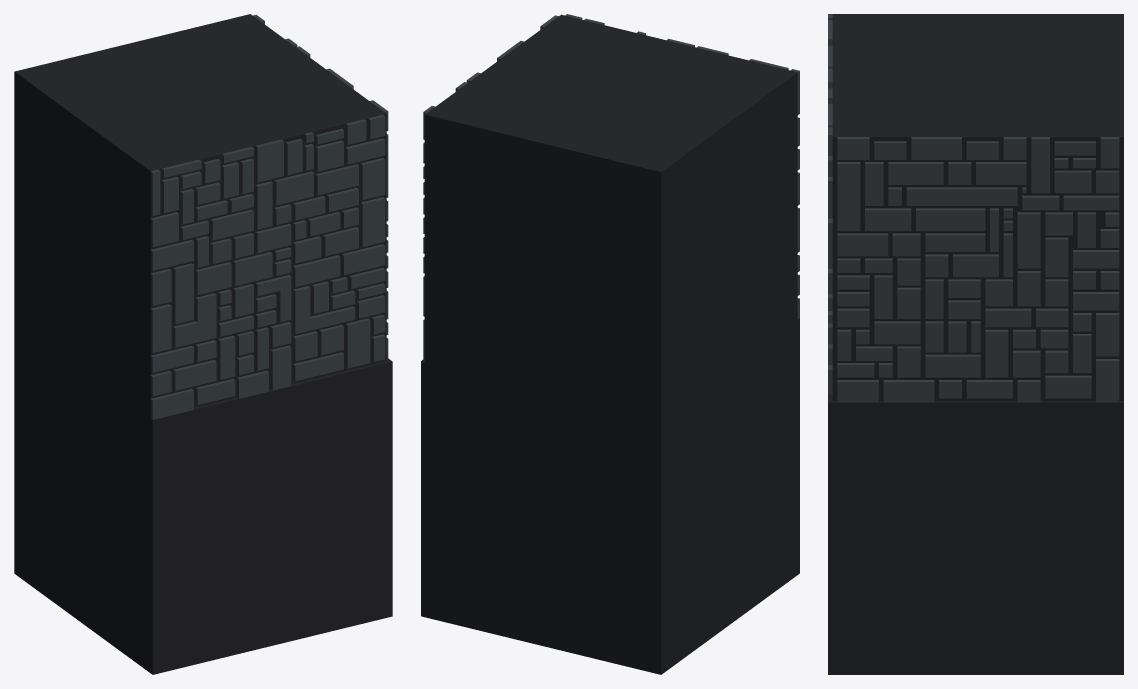
The model's file is corner1.fbx.
3 renders of one model, left to right at view 1: azimuth 30°, elevation 25°; view 2: azimuth 150°, elevation 25°; view 3: azimuth 270°, elevation 25°, orthographic. The views are drawn at different scales.
Parts seen in each view (by area): view 1: Untitled; view 2: Untitled; view 3: Untitled.
Boxes of the visible parts, box(x1,y1,x2,y2) form: Untitled: box(14, 14, 392, 674); Untitled: box(421, 14, 799, 674); Untitled: box(828, 14, 1123, 674).
Size of the model in its own units: 6.4 by 12.8 by 6.4.
